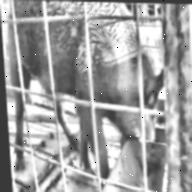boar: (4, 0, 171, 174)
